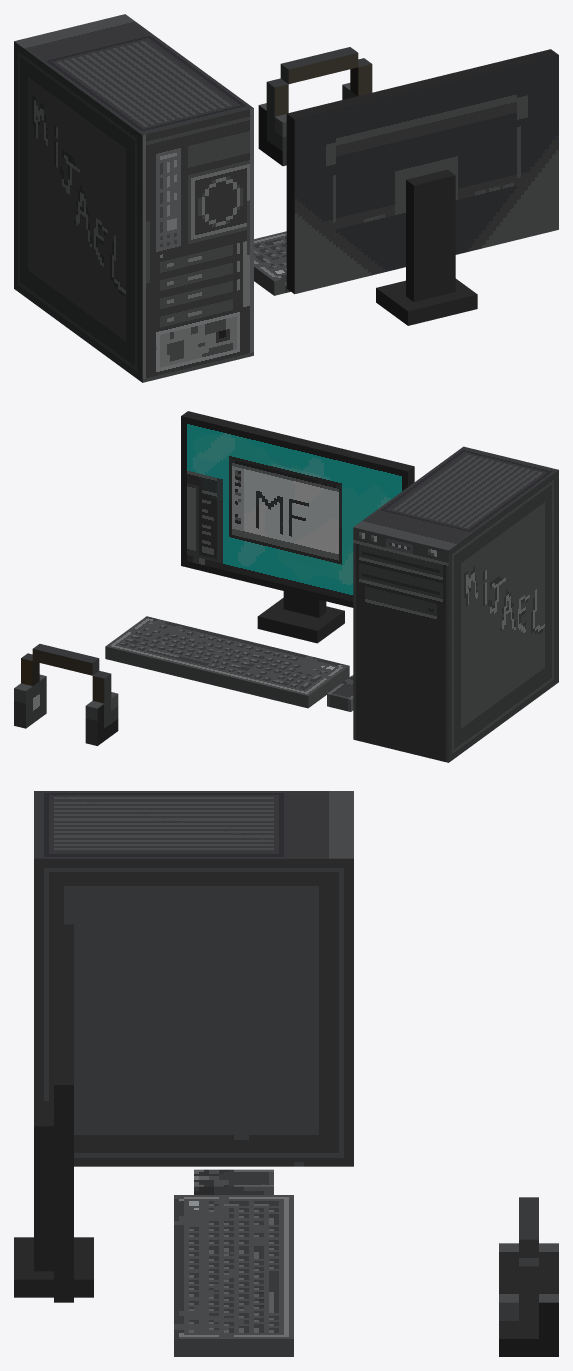
The model's file is computer.gltf.
The picture shows the model from 3 angles, top to bottom: view 1: azimuth 30°, elevation 25°; view 2: azimuth 150°, elevation 25°; view 3: azimuth 270°, elevation 25°; orthographic projection. The views are drawn at different scales.
Parts seen in each view (by area): view 1: cube (×9); view 2: cube (×11); view 3: cube (×10).
Boxes of the visible parts, x1=… form: cube (×9): x1=14, y1=14, x2=558, y2=382; cube (×11): x1=14, y1=411, x2=558, y2=762; cube (×10): x1=14, y1=791, x2=558, y2=1356.
Bounding box in the file's own units: 1.91 × 1.06 × 1.7.
11 materials, 11 textured.
